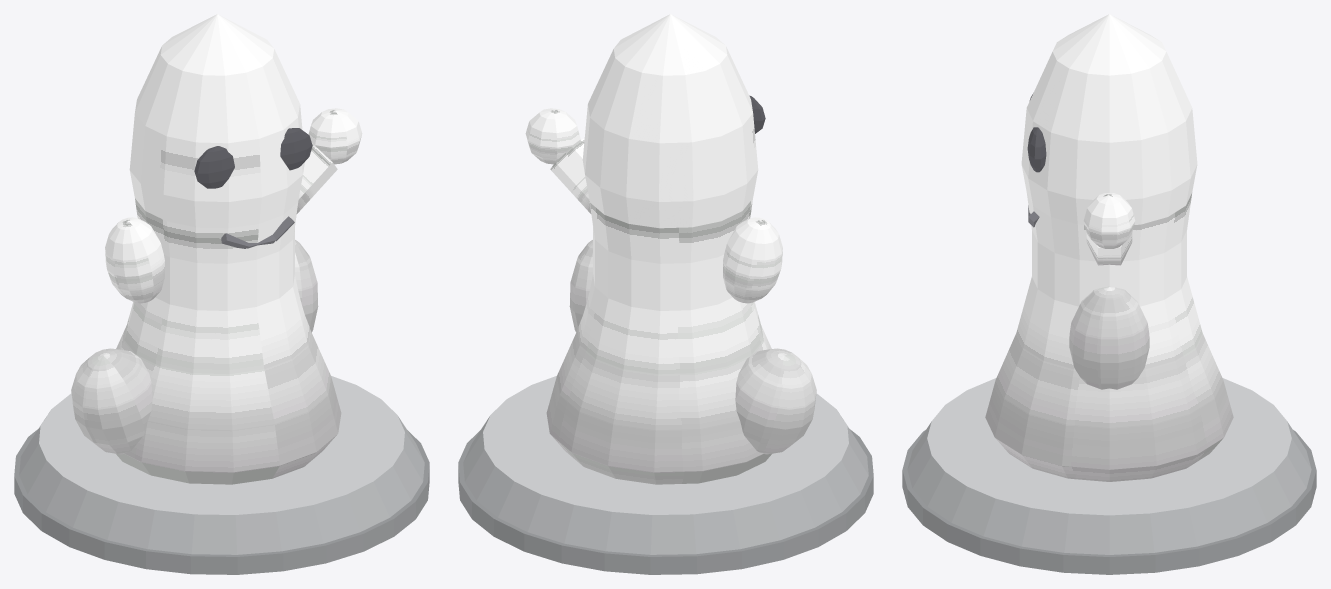
Rendered from Building_SculptureTerror.glb.
3 renders of one model, left to right at view 1: azimuth 30°, elevation 25°; view 2: azimuth 150°, elevation 25°; view 3: azimuth 270°, elevation 25°, orthographic.
Visible parts, largest first — view 1: SculptureTerror; view 2: SculptureTerror; view 3: SculptureTerror.
Part boxes in pixels (box(x1,y1,x2,y2)): SculptureTerror: box(14, 14, 429, 574); SculptureTerror: box(458, 14, 873, 574); SculptureTerror: box(902, 14, 1316, 574).
Bounding box in the file's own units: 0.84 × 1.05 × 0.84.
Materials: 1 (1 with a texture image).
